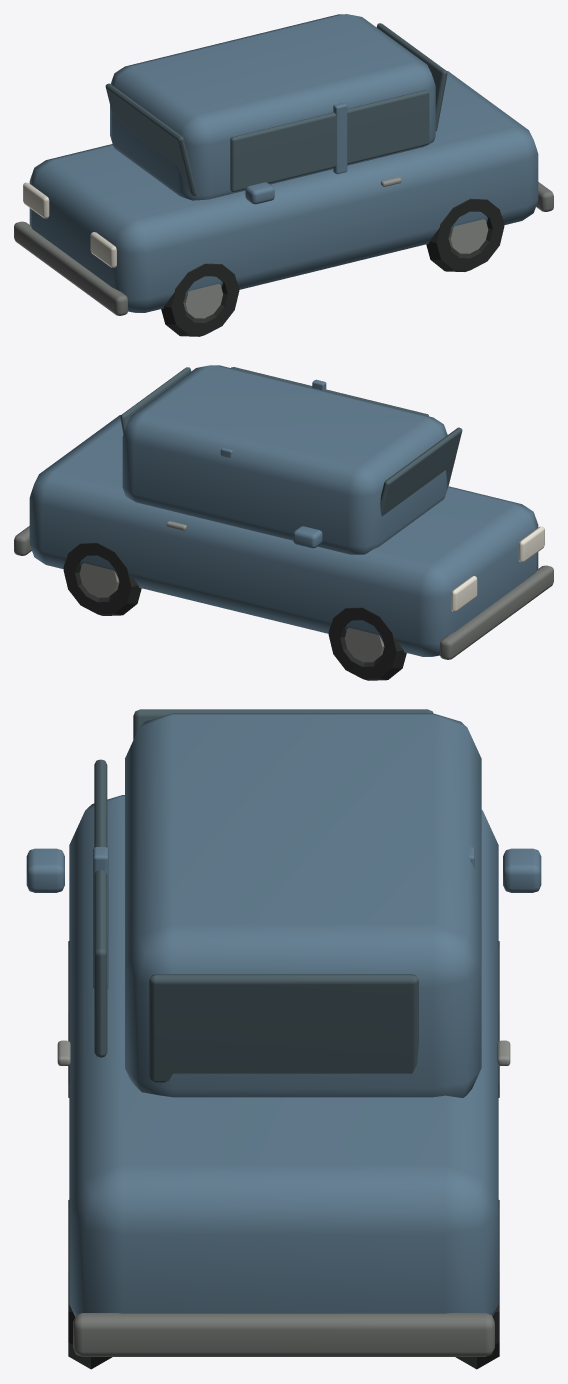
Rendered from kilmore_hatchback_b.glb.
3 renders of one model, top to bottom at view 1: azimuth 30°, elevation 25°; view 2: azimuth 150°, elevation 25°; view 3: azimuth 270°, elevation 25°, orthographic. The views are drawn at different scales.
Visible parts, largest first — view 1: SM_Kilmore_ParkedHatchback_B_CombinedMesh; view 2: SM_Kilmore_ParkedHatchback_B_CombinedMesh; view 3: SM_Kilmore_ParkedHatchback_B_CombinedMesh.
Boxes of the visible parts, box(x1,y1,x2,y2) form: SM_Kilmore_ParkedHatchback_B_CombinedMesh: box(14, 14, 553, 336); SM_Kilmore_ParkedHatchback_B_CombinedMesh: box(14, 365, 553, 680); SM_Kilmore_ParkedHatchback_B_CombinedMesh: box(26, 709, 541, 1369).
Size of the model in its own units: 4.2 by 1.86 by 2.14.
